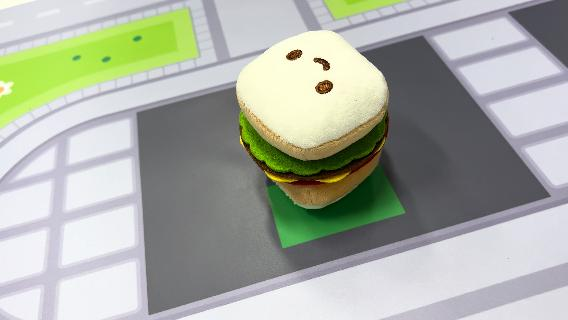sandwich: (233, 28, 393, 210)
